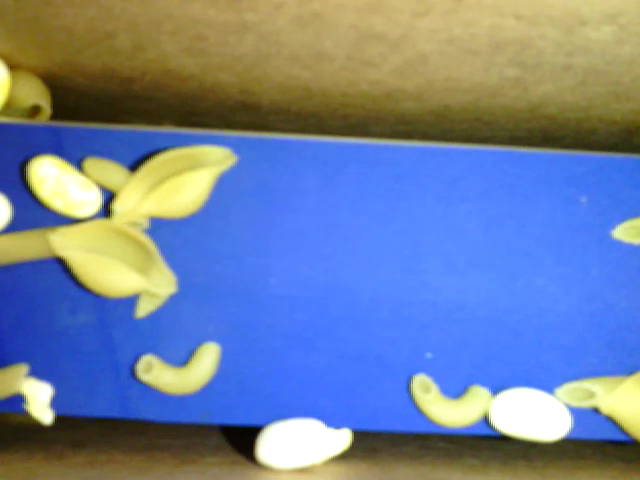elbow: (83, 155, 149, 235), (135, 337, 224, 395), (405, 367, 492, 425)
penne: (549, 374, 633, 409), (1, 223, 62, 267), (608, 216, 639, 247)
shell: (108, 142, 242, 218), (49, 223, 179, 297), (590, 366, 639, 431), (2, 65, 55, 123)
